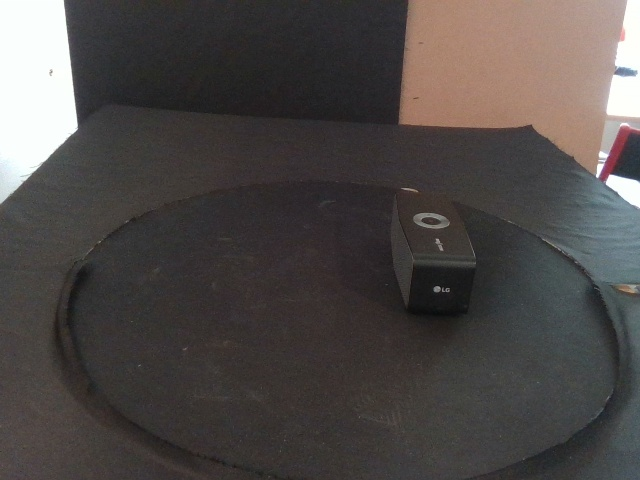speaker: (389, 190, 476, 314)
